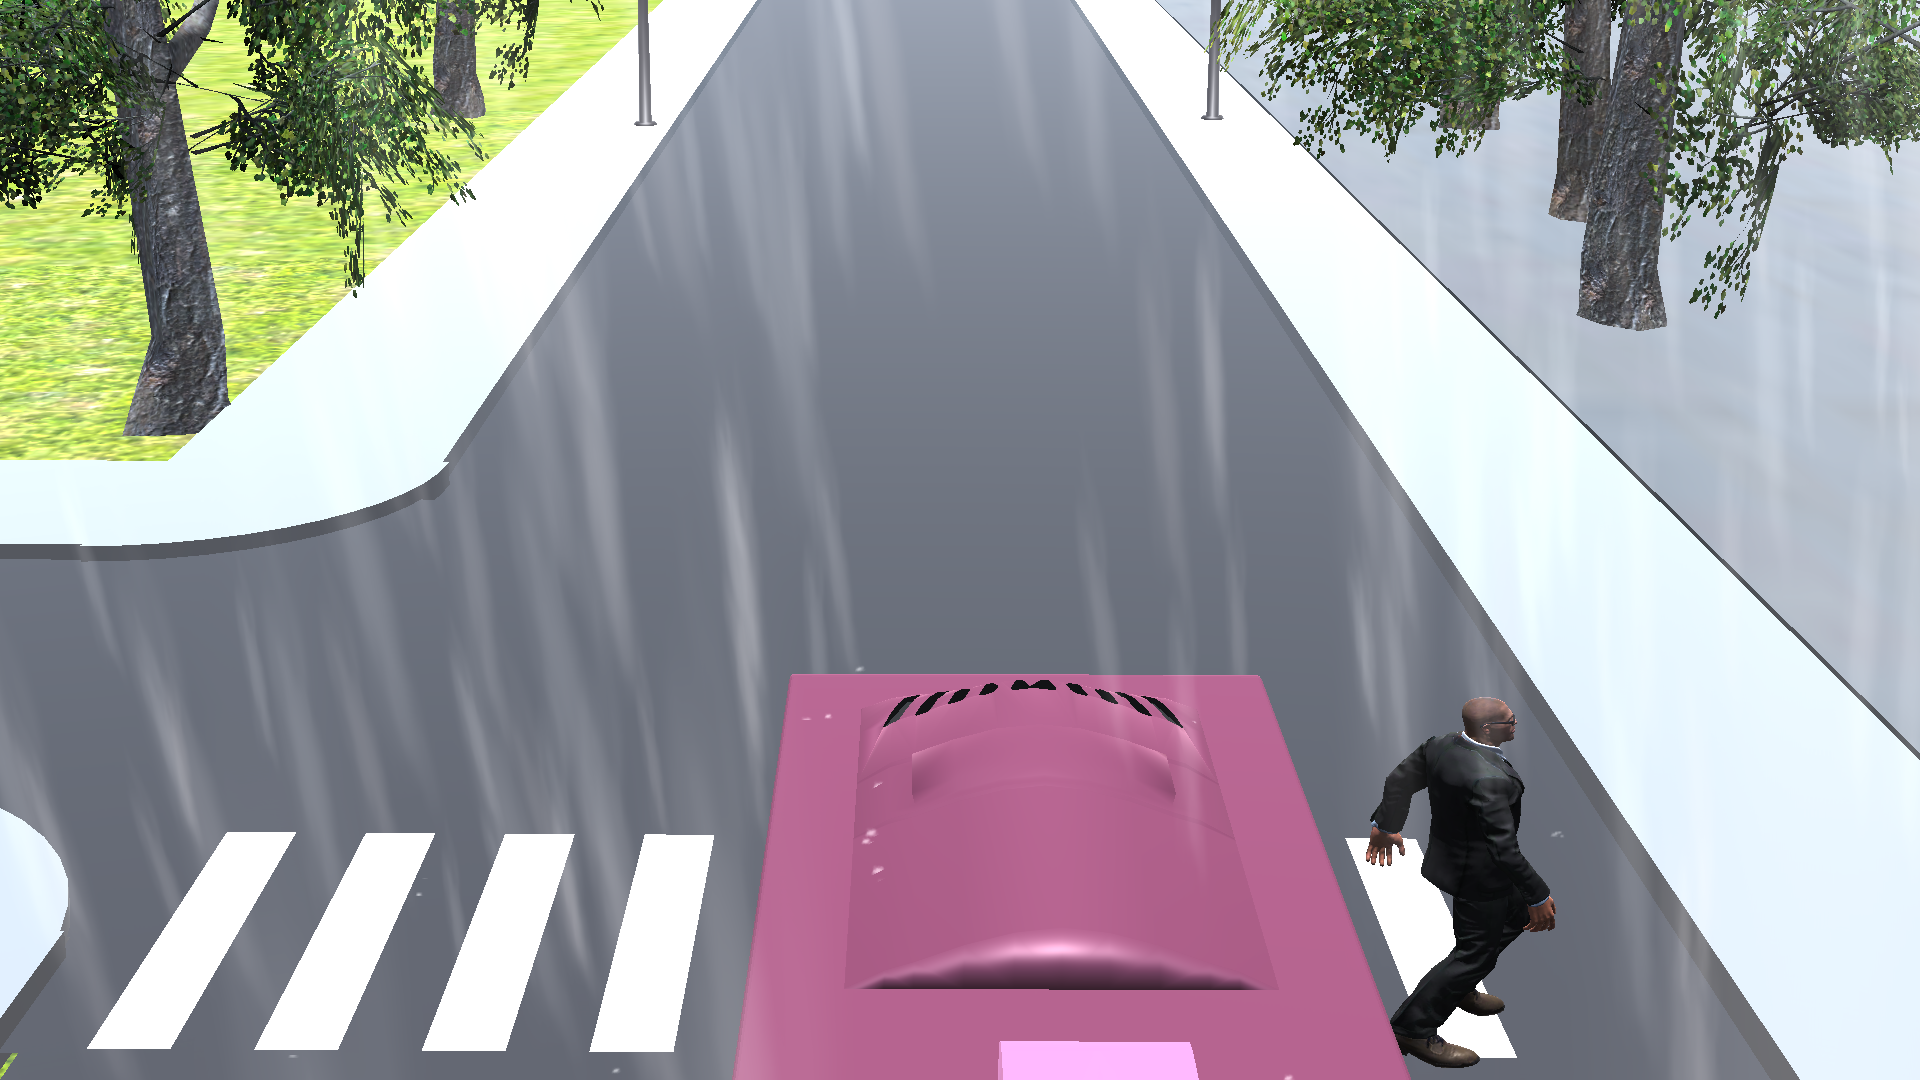pedestrian: (1341, 679, 1562, 1068)
